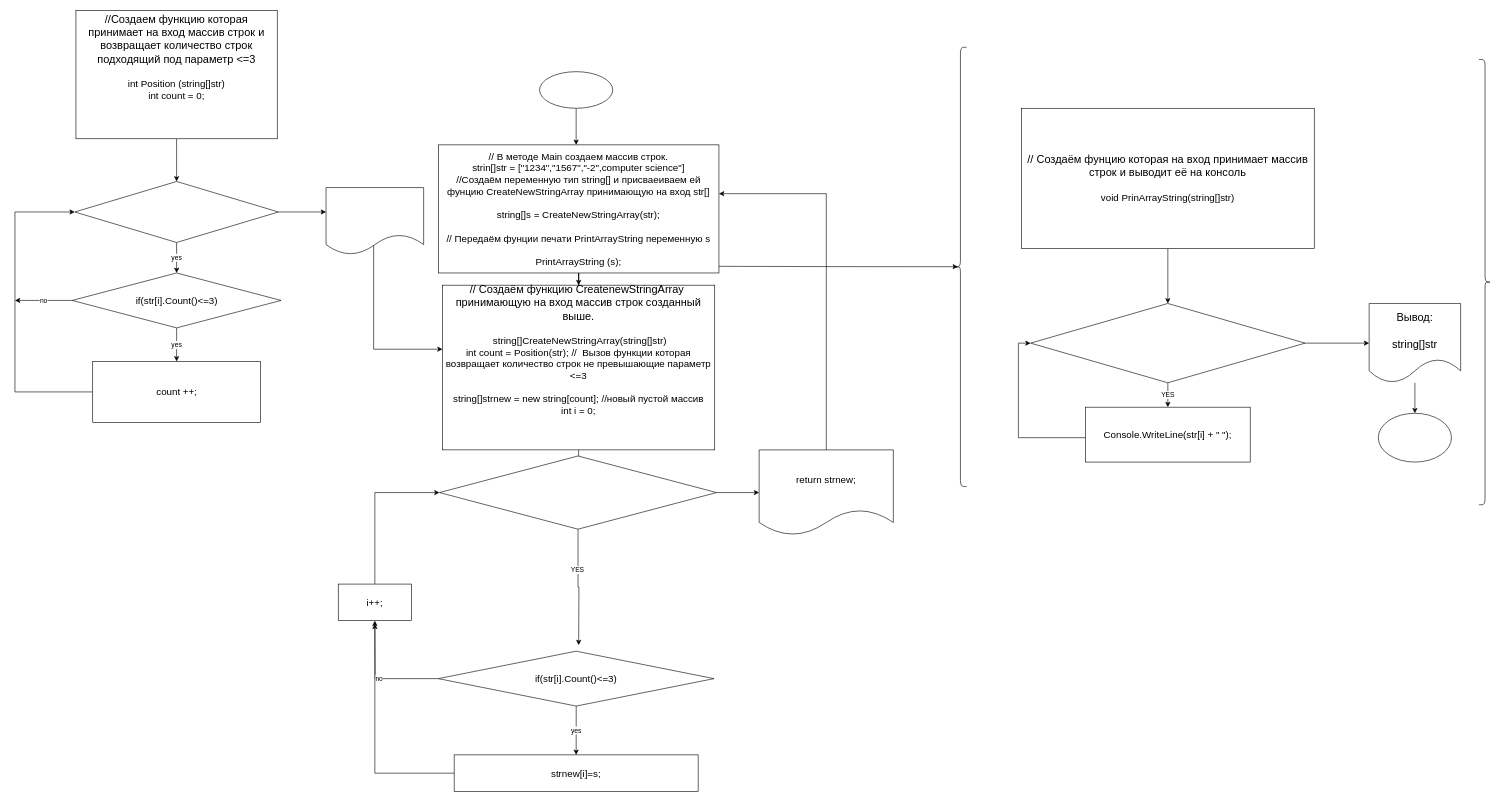
This 1502x802 diagram has some shape labels left out. Here are the shapes that lost their labels. From the top down, the centre of each, then its label:
At point (576, 89): "Cтарт".
At point (176, 211): "for(int i = 0;i < str.Length;i++)".
At point (374, 221): "return count;".
At point (1167, 343): "for(int i = 0;i < str.Length; i++)".
At point (1414, 437): "Конец".
At point (578, 492): "foreah(string s in str)".
